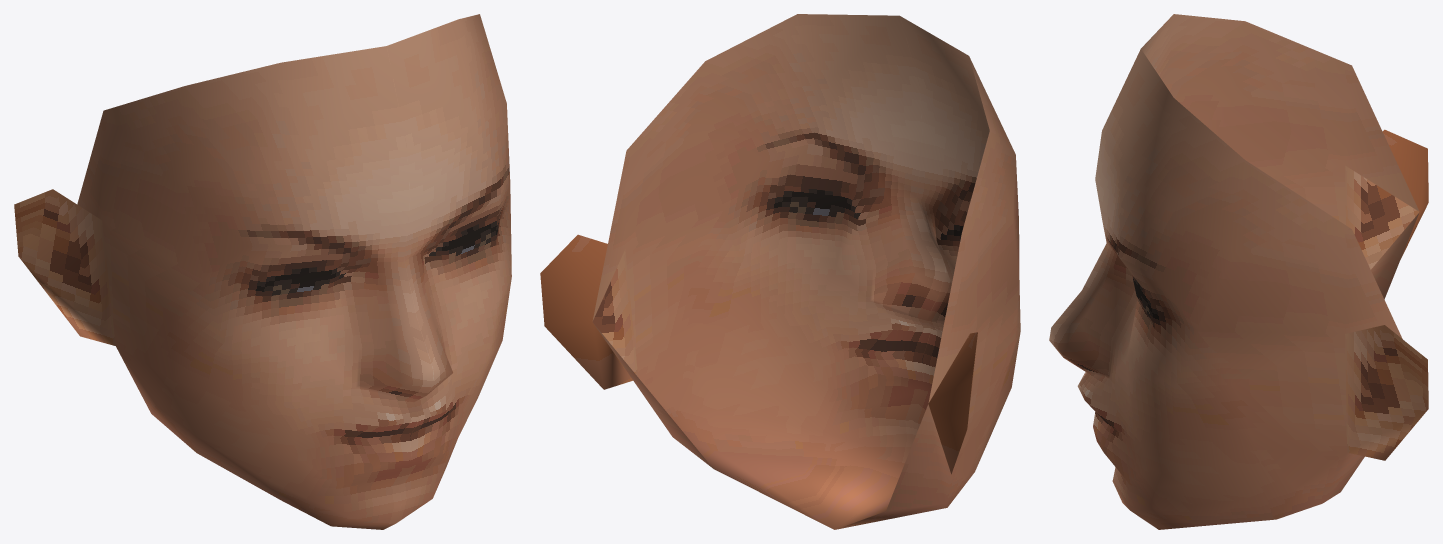
3 views of the same model, side by side, from view 1: azimuth 30°, elevation 25°; view 2: azimuth 150°, elevation 25°; view 3: azimuth 270°, elevation 25° (orthographic). The views are drawn at different scales.
Size of the model in its own units: 19.4 by 20.15 by 14.76.
Materials: 1 (1 with a texture image).
